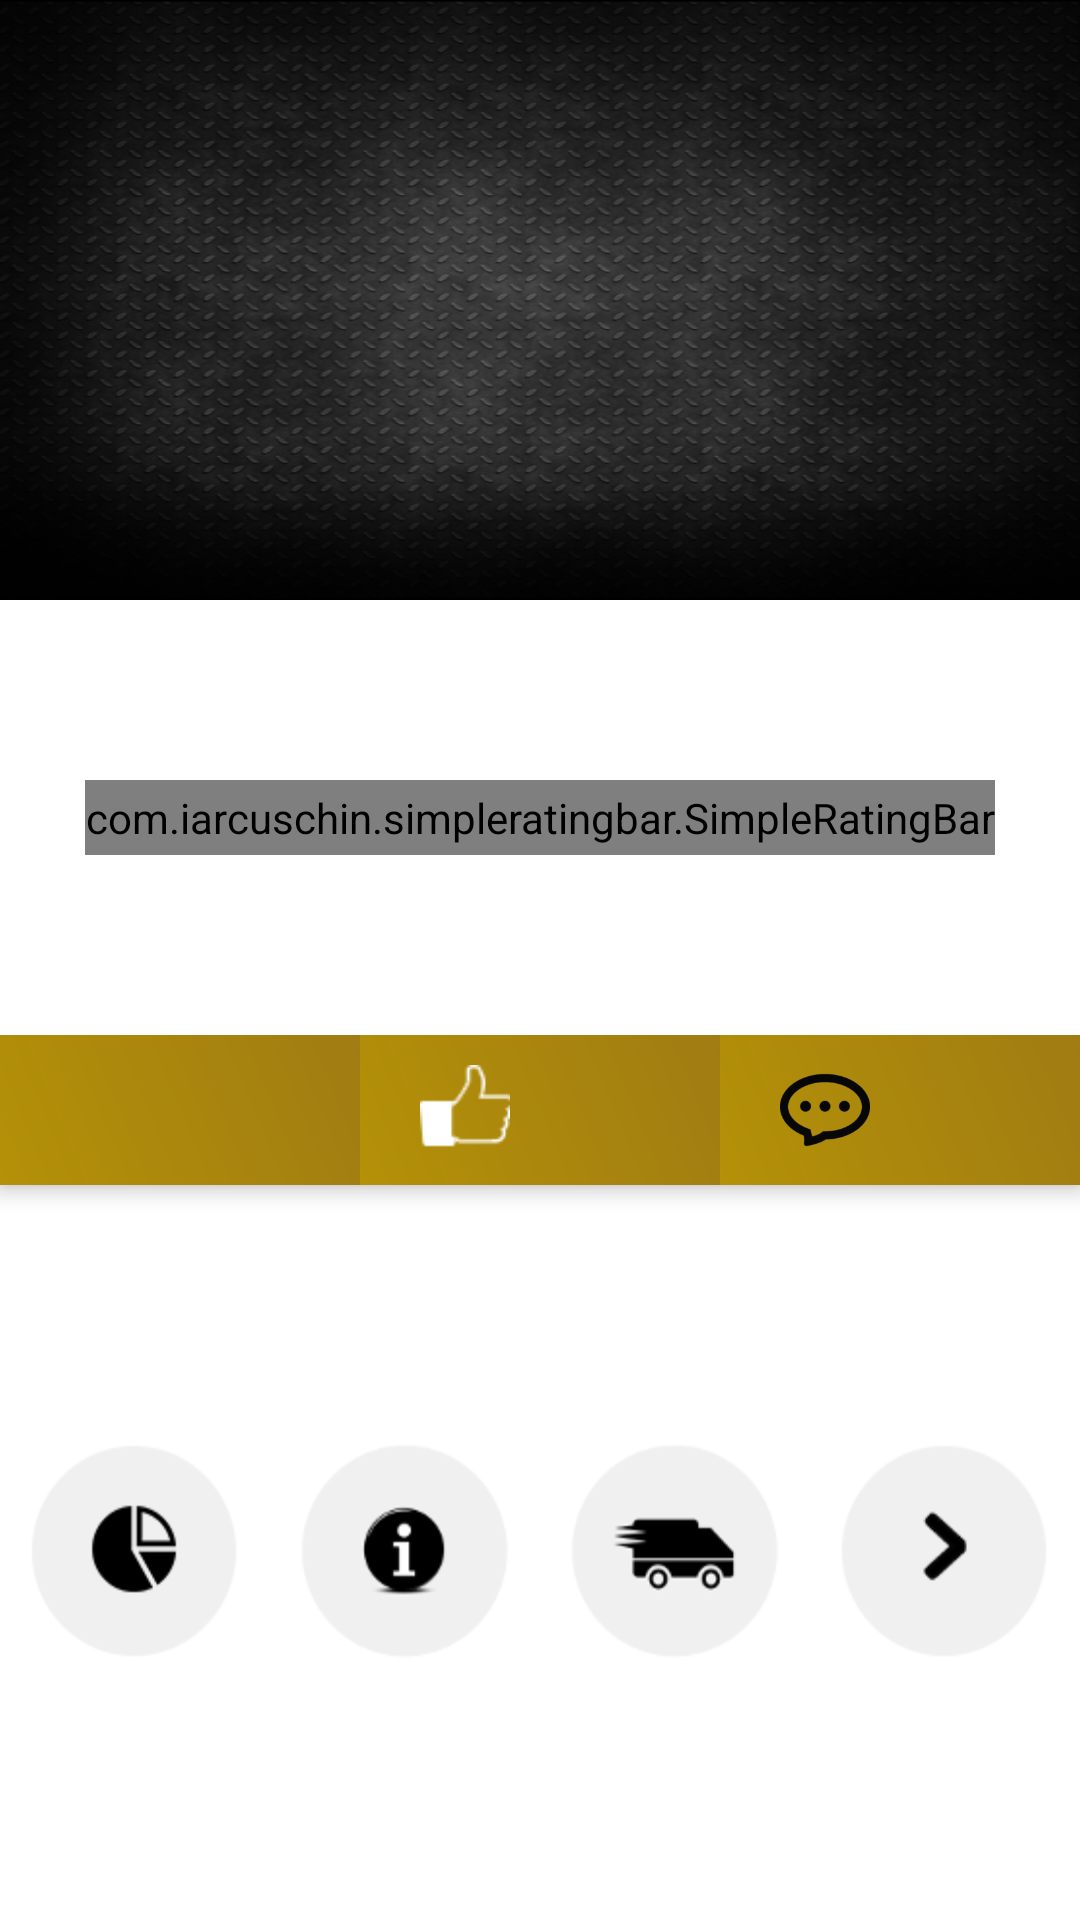

Named icons in this screenshot (1080×1920) and their bounding boxes, (x1, y1, x2, y2):
arrow: (923, 1511, 967, 1581)
charticn: (91, 1505, 177, 1593)
likes: (420, 1065, 510, 1147)
reviews: (780, 1074, 870, 1146)
shipping: (614, 1517, 735, 1591)
